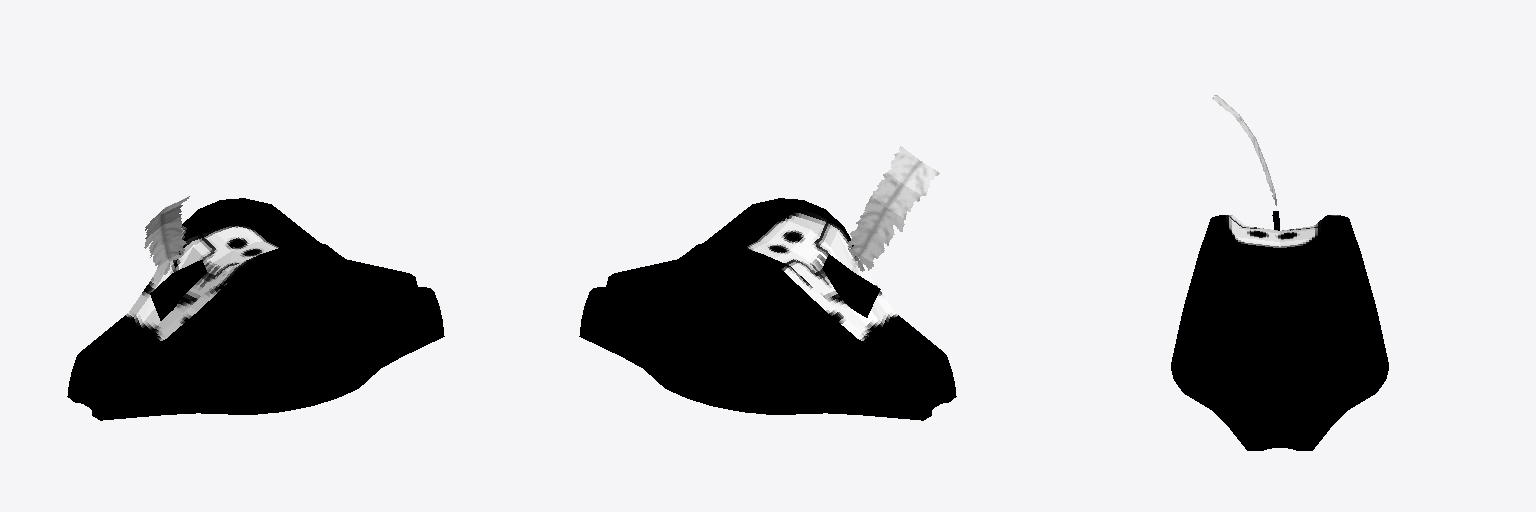
3 renders of one model, left to right at view 1: azimuth 30°, elevation 25°; view 2: azimuth 150°, elevation 25°; view 3: azimuth 270°, elevation 25°, orthographic.
Visible parts, largest first — view 1: Part1; view 2: Part1; view 3: Part1.
Boxes of the visible parts, x1=… form: Part1: x1=67, y1=196, x2=444, y2=420; Part1: x1=579, y1=146, x2=956, y2=420; Part1: x1=1171, y1=95, x2=1388, y2=450.
Size of the model in its own units: 2.35 by 1.43 by 1.28.
1 materials, 1 textured.